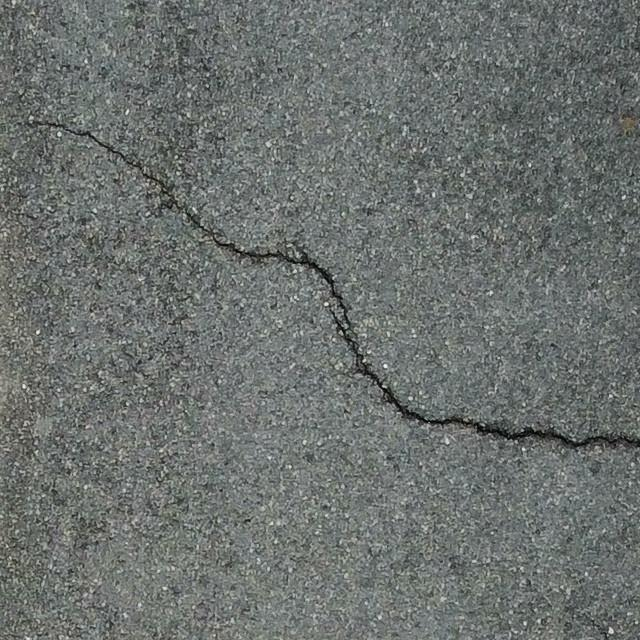TransverseCrack: (32, 116, 640, 452)
